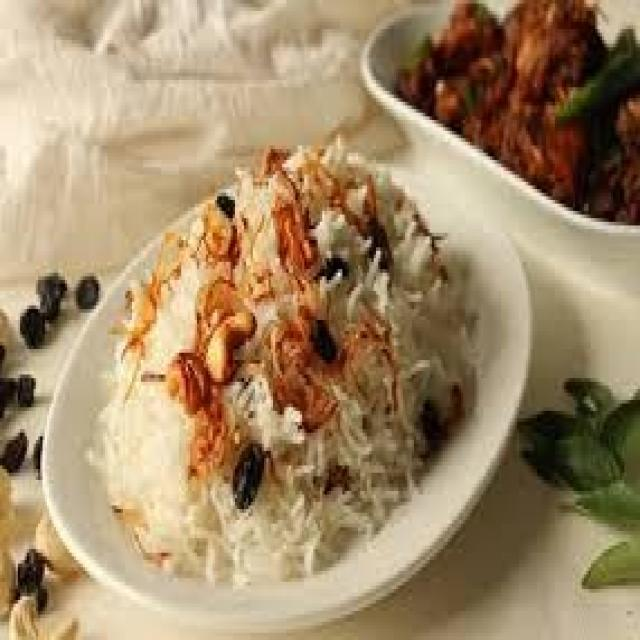chicken: (392, 0, 638, 229)
nei satham: (87, 135, 486, 590)
